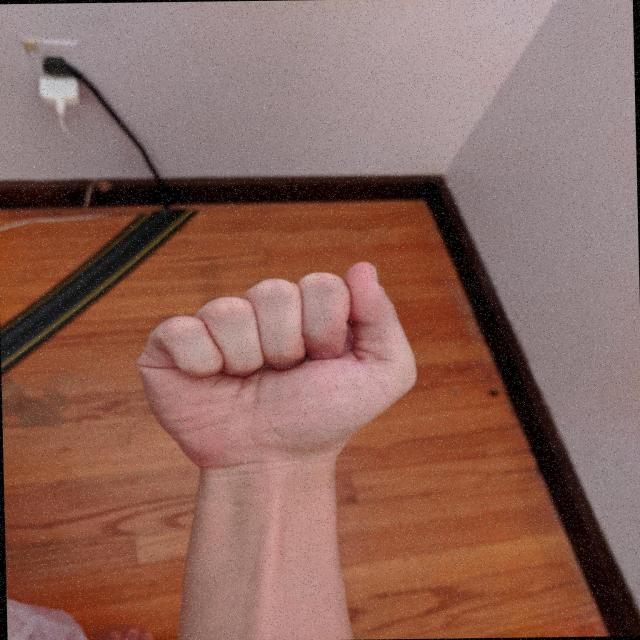A: (126, 256, 428, 482)
